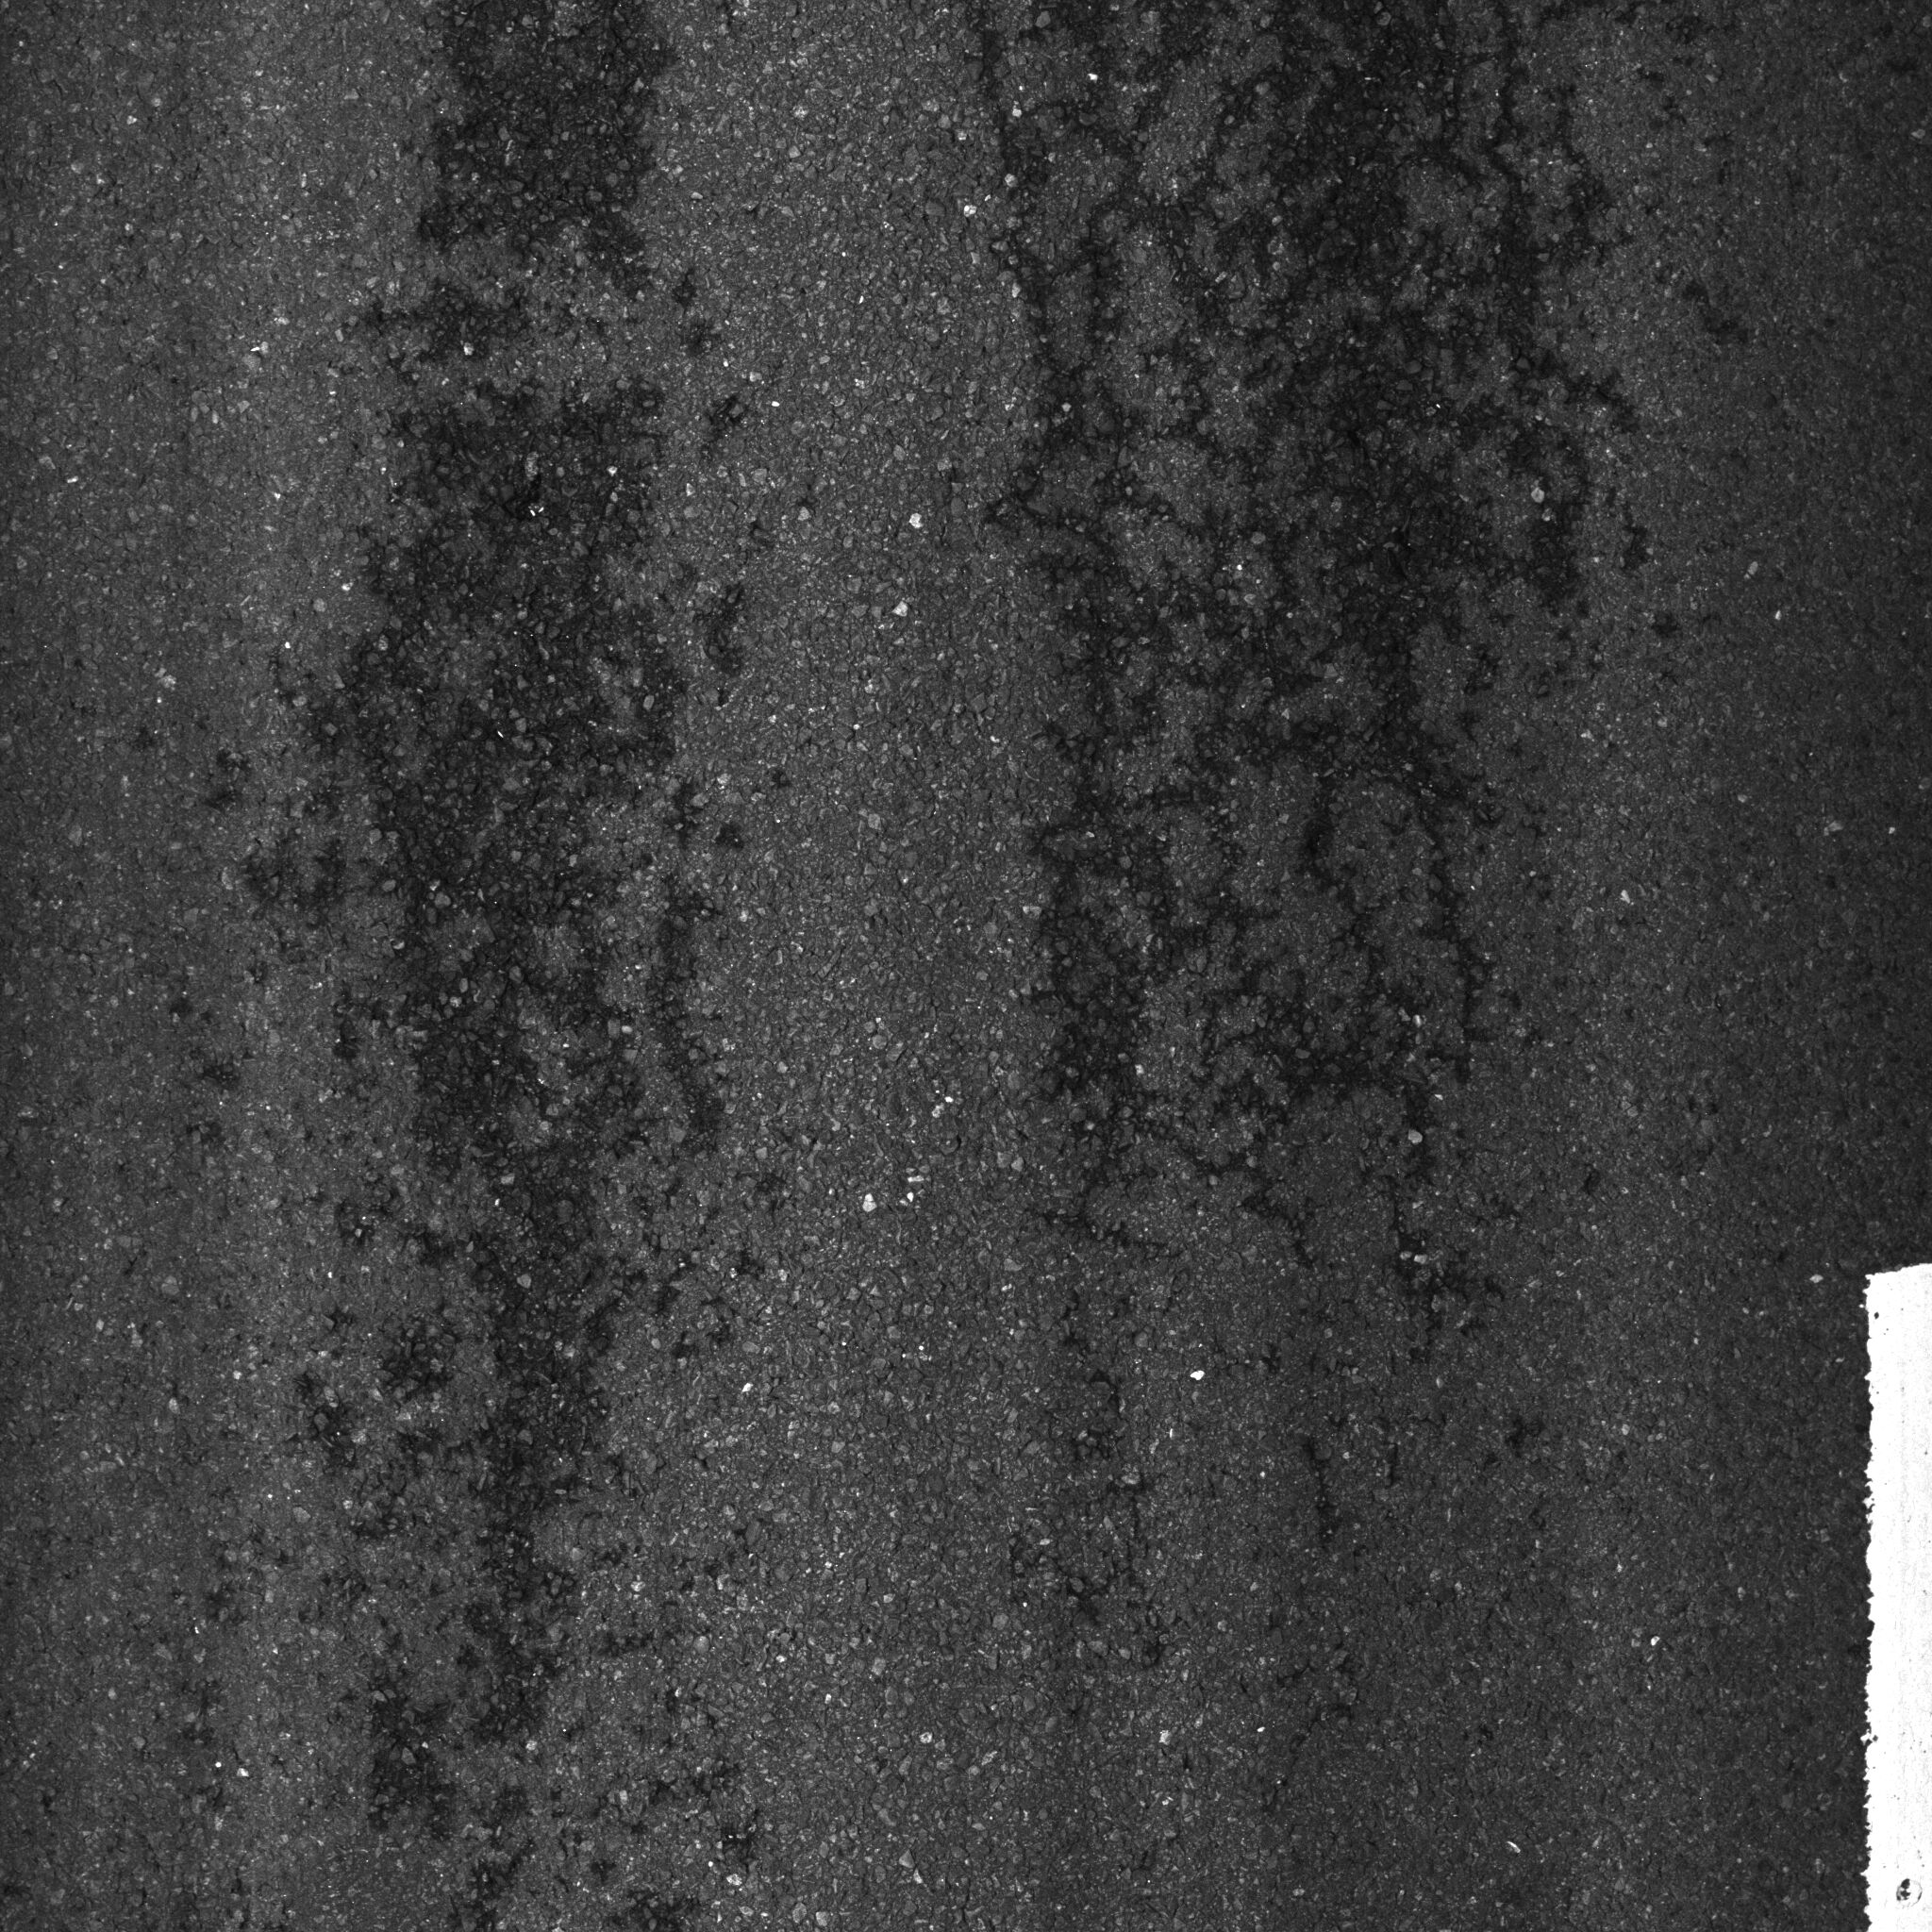alligator: (196, 2, 803, 1838), (947, 2, 1695, 1401)
